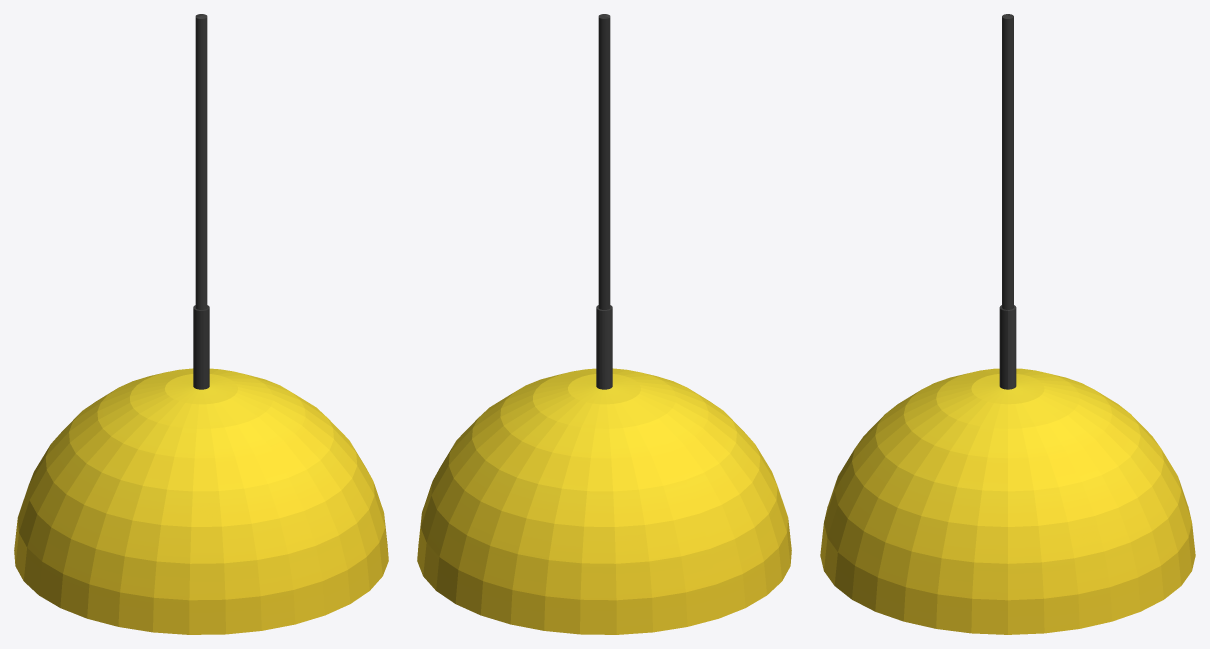
The model's file is Lamp con UV.fbx.
3 renders of one model, left to right at view 1: azimuth 30°, elevation 25°; view 2: azimuth 150°, elevation 25°; view 3: azimuth 270°, elevation 25°, orthographic.
Parts seen in each view (by area): view 1: Sphere; view 2: Sphere; view 3: Sphere.
Part boxes in pixels (bbox=[...]): Sphere: bbox=[14, 14, 388, 634]; Sphere: bbox=[417, 14, 791, 634]; Sphere: bbox=[820, 14, 1195, 634].
Bounding box in the file's own units: 200 × 348 × 200.
